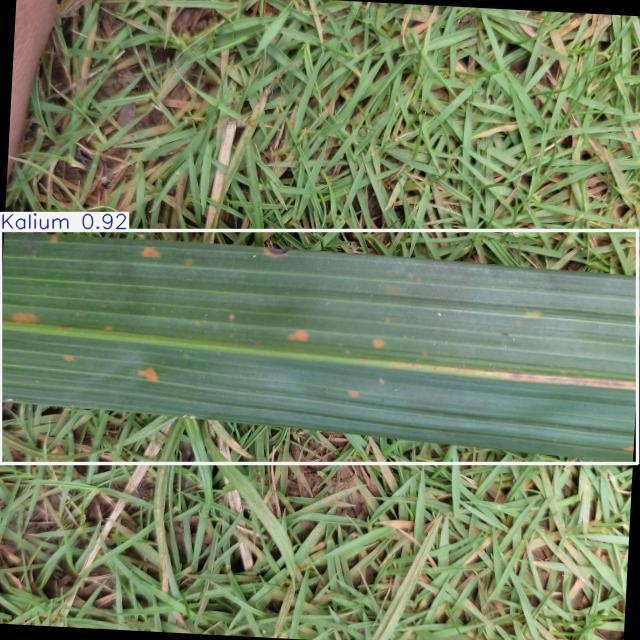Kalium: (0, 230, 638, 463)
